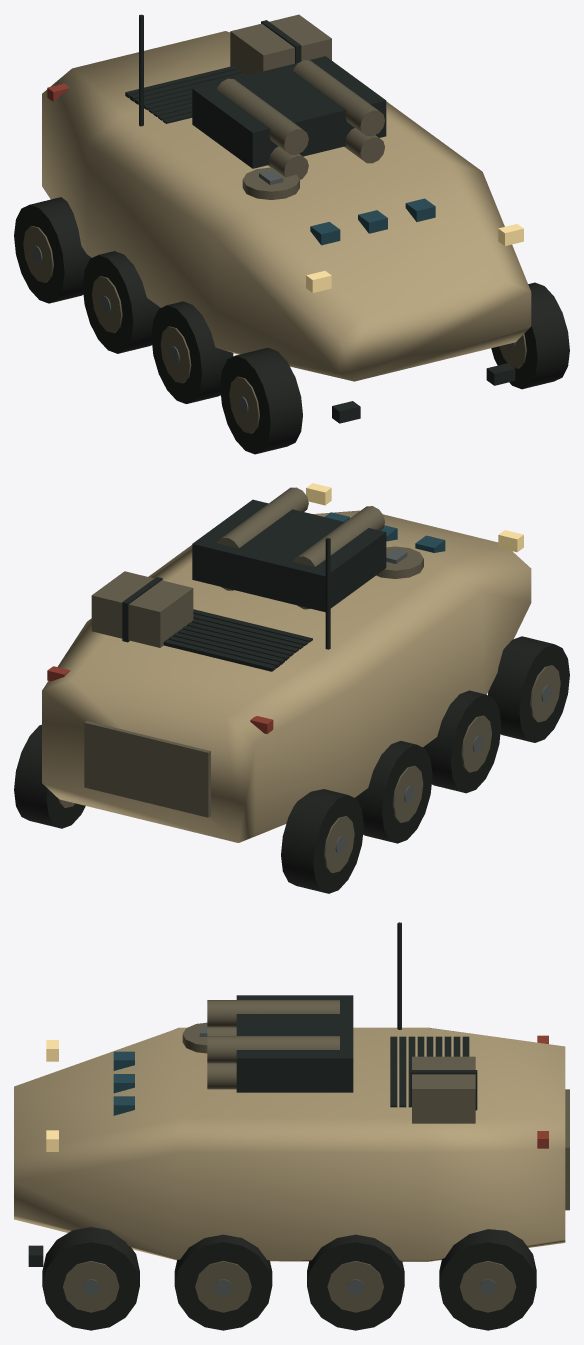
The model's file is tankDestroyer.glb.
3 renders of one model, top to bottom at view 1: azimuth 30°, elevation 25°; view 2: azimuth 150°, elevation 25°; view 3: azimuth 270°, elevation 25°, orthographic. The views are drawn at different scales.
Visible parts, largest first — view 1: armor, rubber, dark (×2), trim (×2), stowage, glass, lamp, steel; view 2: armor, rubber, dark (×2), trim (×2), stowage, lamp, steel, glass, red; view 3: armor, rubber, trim (×2), dark (×2), stowage, glass, steel, lamp.
Part boxes in pixels (x1=…): armor: x1=42, y1=31, x2=531, y2=381; rubber: x1=14, y1=197, x2=569, y2=454; dark (×2): x1=125, y1=14, x2=515, y2=423; trim (×2): x1=23, y1=60, x2=526, y2=433; stowage: x1=230, y1=14, x2=331, y2=75; glass: x1=310, y1=198, x2=435, y2=245; lamp: x1=306, y1=224, x2=523, y2=292; steel: x1=32, y1=170, x2=515, y2=414; armor: x1=42, y1=510, x2=531, y2=842; rubber: x1=14, y1=636, x2=569, y2=893; dark (×2): x1=122, y1=499, x2=386, y2=671; trim (×2): x1=58, y1=487, x2=560, y2=872; stowage: x1=91, y1=571, x2=193, y2=647; lamp: x1=306, y1=483, x2=523, y2=552; steel: x1=335, y1=549, x2=551, y2=853; glass: x1=325, y1=512, x2=445, y2=552; red: x1=47, y1=666, x2=273, y2=733; armor: x1=14, y1=1027, x2=565, y2=1261; rubber: x1=42, y1=1227, x2=536, y2=1330; trim (×2): x1=63, y1=1000, x2=569, y2=1312; dark (×2): x1=28, y1=922, x2=477, y2=1266; stowage: x1=412, y1=1056, x2=475, y2=1123; glass: x1=113, y1=1051, x2=134, y2=1115; steel: x1=82, y1=1027, x2=496, y2=1295; lamp: x1=46, y1=1040, x2=58, y2=1151.
Size of the model in its own units: 3.19 by 3.05 by 5.24.
